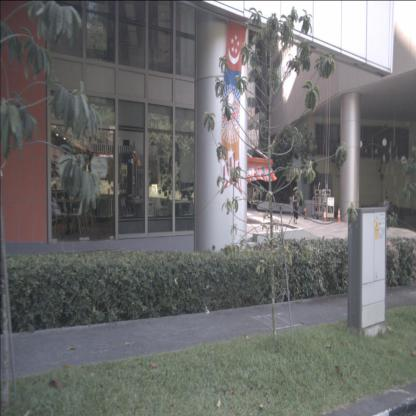cone: (336, 208, 342, 223), (322, 207, 327, 222), (303, 207, 308, 220)
